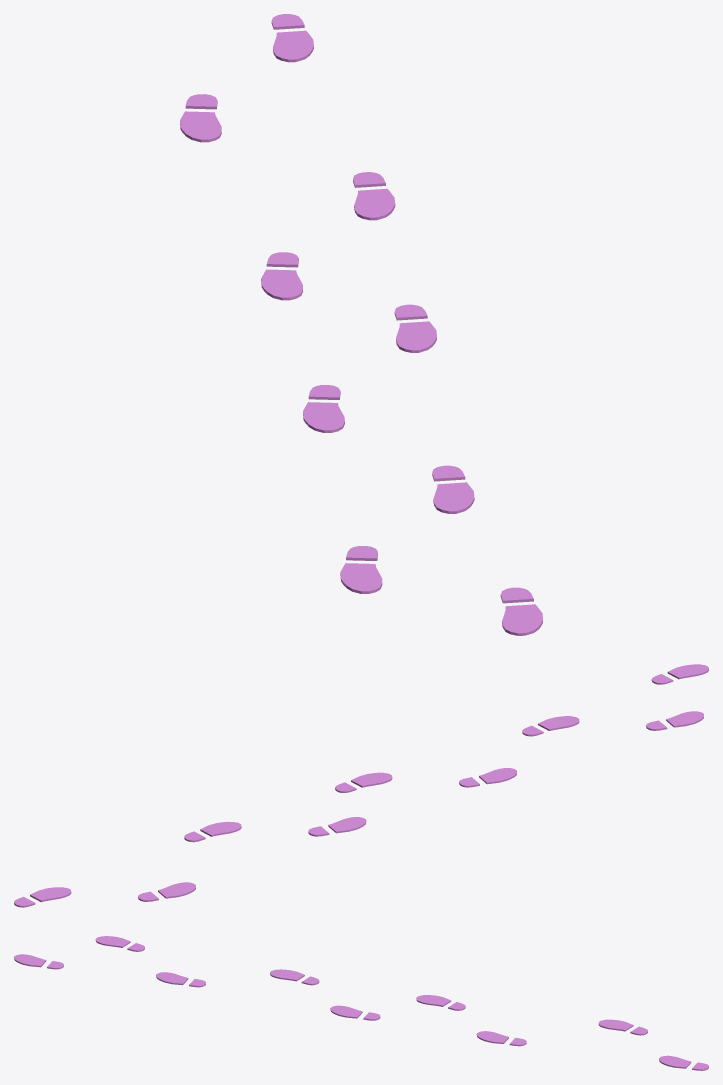
File: footprints runner.glb
The picture shows the model from 3 angles, top to bottom: view 1: azimuth 30°, elevation 25°; view 2: azimuth 150°, elevation 25°; view 3: azimuth 270°, elevation 25°; orthographic projection. The views are drawn at different scales.
Visible parts, largest first — view 1: Plane.022; view 2: Plane.022; view 3: Plane.022.
Part boxes in pixels (x1,y1,x2,y2): Plane.022: (180,14,542,635); Plane.022: (14,664,708,907); Plane.022: (14,936,708,1070).
Bounding box in the file's own units: 1.68 × 0.0078 × 3.69.
